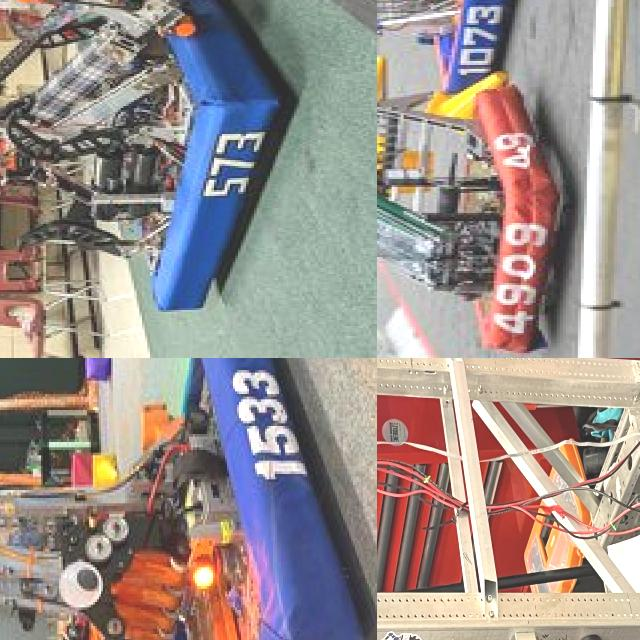FRC-Robots: (0, 358, 361, 640), (0, 0, 298, 321), (377, 358, 640, 640), (377, 77, 575, 358), (377, 0, 527, 103)
